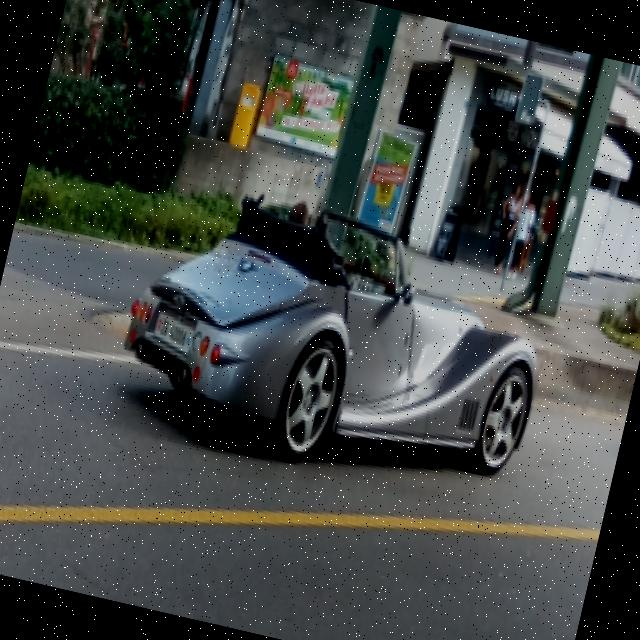Autre: (152, 314, 197, 354)
